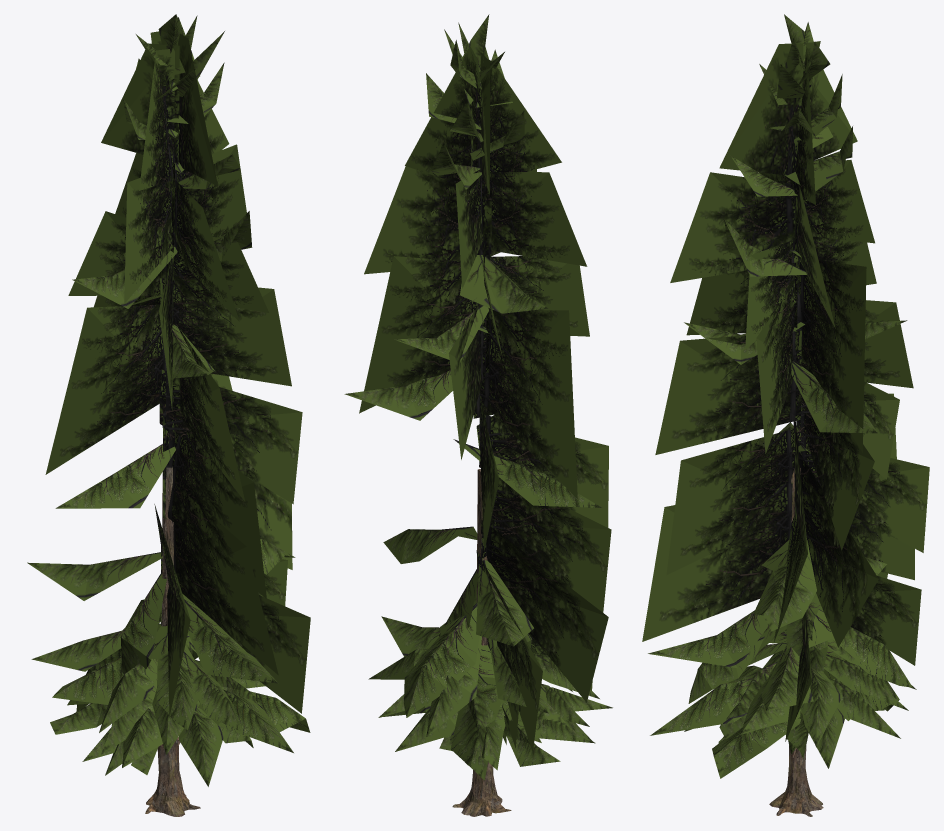
Rendered from spruce_3.dae.
3 renders of one model, left to right at view 1: azimuth 30°, elevation 25°; view 2: azimuth 150°, elevation 25°; view 3: azimuth 270°, elevation 25°, orthographic.
Parts seen in each view (by area): view 1: Mesh_Object; view 2: Mesh_Object; view 3: Mesh_Object.
Boxes of the visible parts, x1=… form: Mesh_Object: x1=27, y1=14, x2=310, y2=816; Mesh_Object: x1=344, y1=14, x2=612, y2=816; Mesh_Object: x1=642, y1=14, x2=929, y2=816.
Size of the model in its own units: 6.23 by 18.22 by 6.
